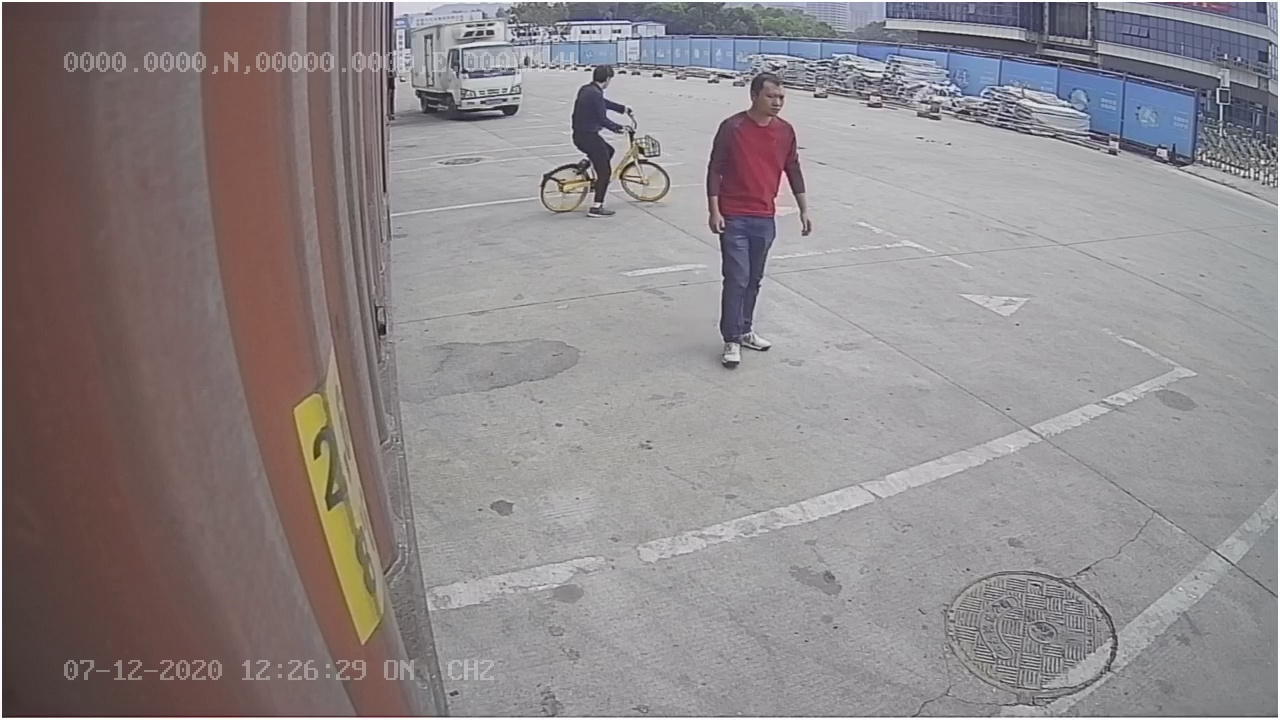person: (698, 69, 816, 371)
